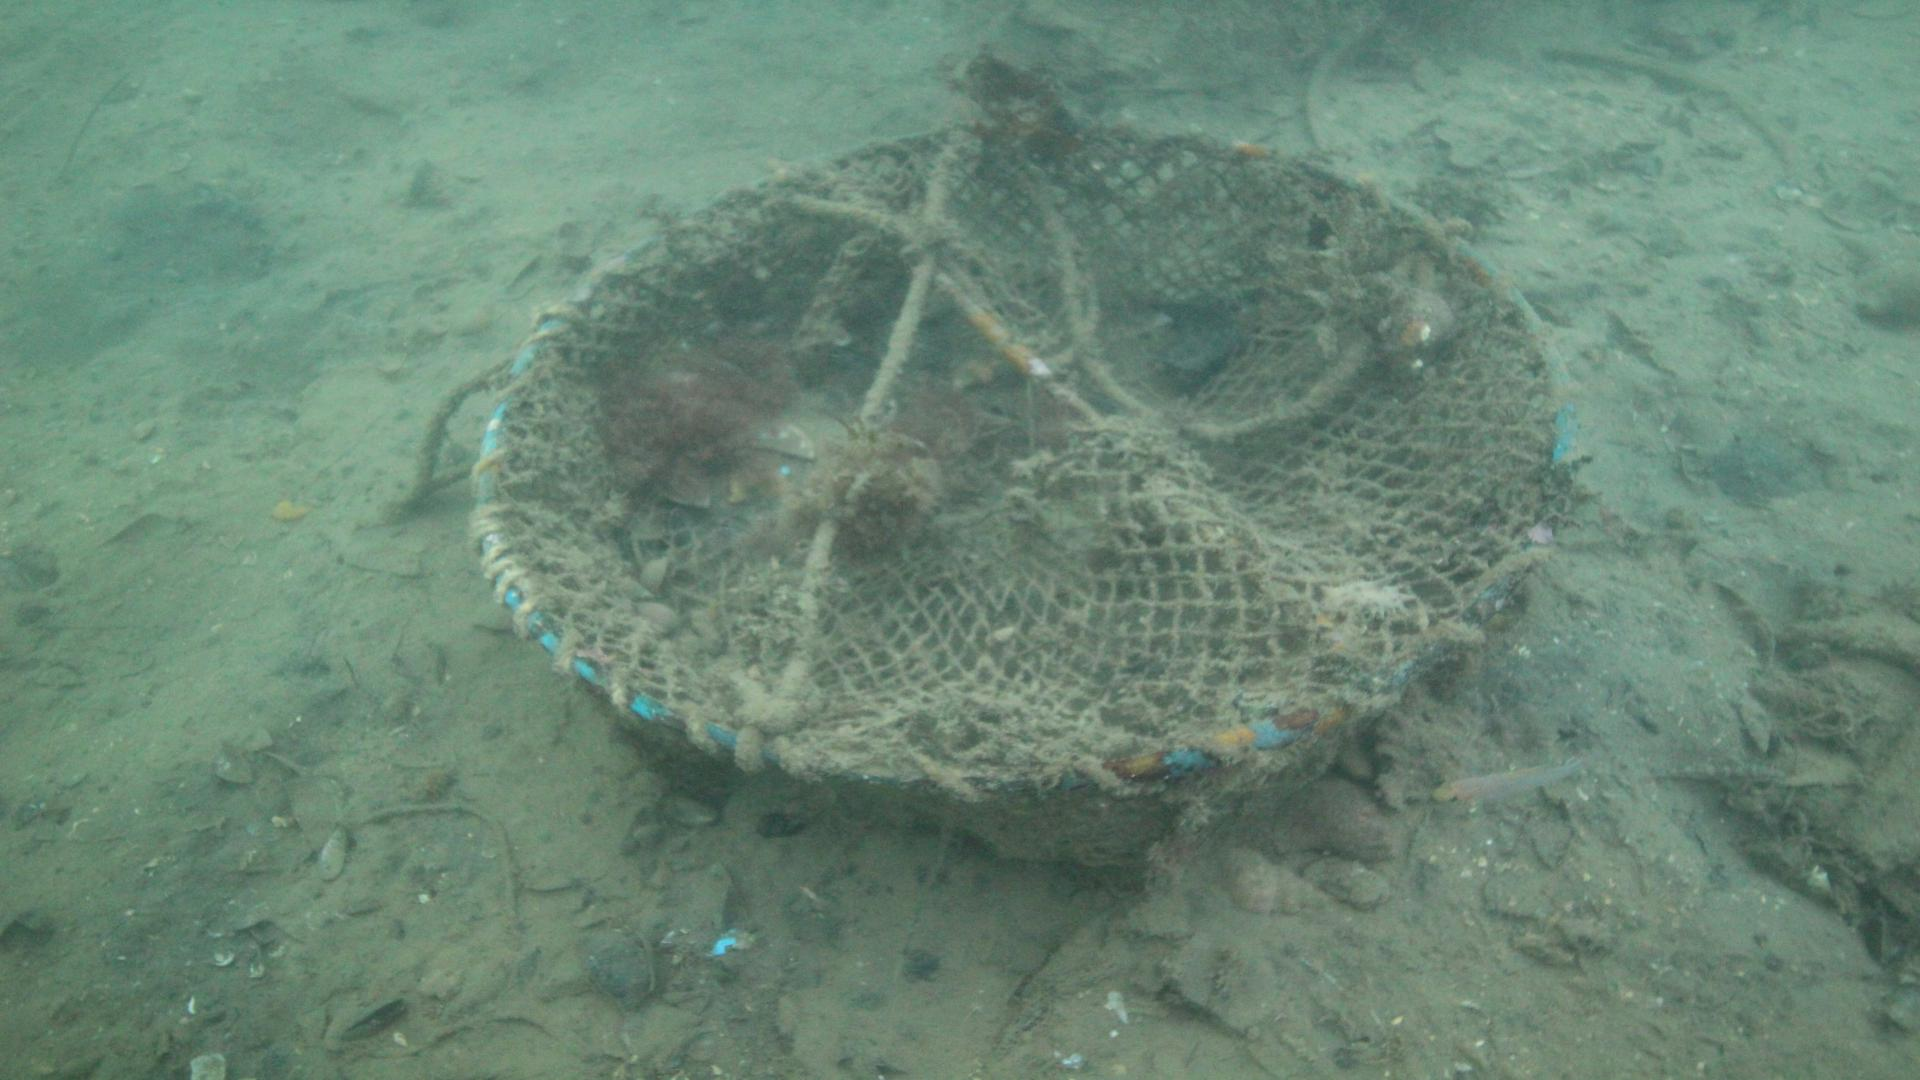circular fish trap: (463, 116, 1581, 866)
